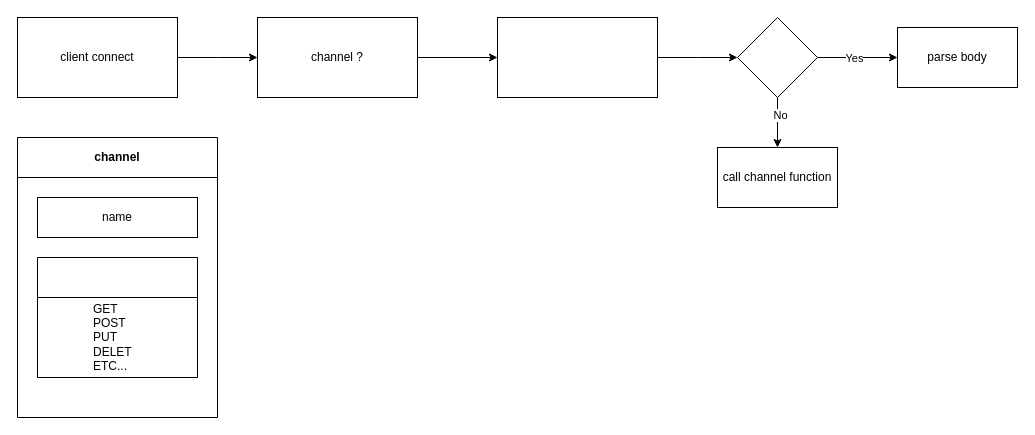
This 1035x435 diagram has some shape labels left out. Here are the shapes that lost their labels. From the top down, the box of each, then its label:
(496, 16, 658, 98): methode ?
(736, 16, 818, 98): method has body
(36, 256, 198, 378): methods
